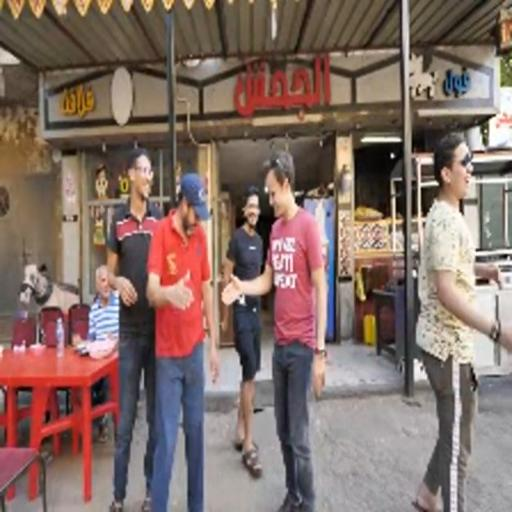nao-violencia: (135, 138, 341, 512)
